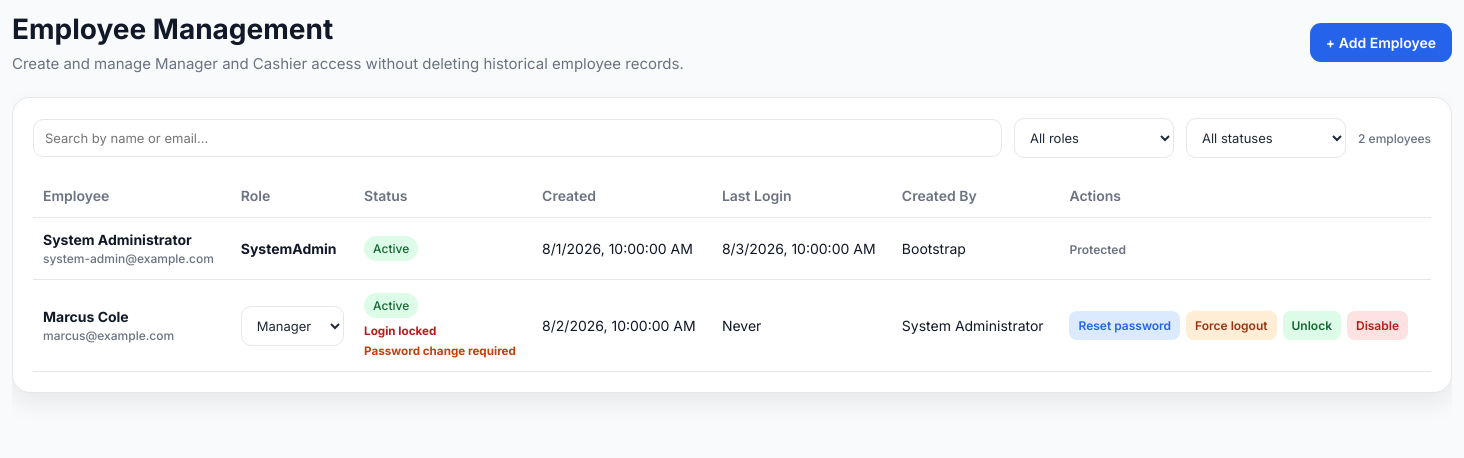
Test: EmployeeManagement › shows and clears a locked employee account
This screenshot has width=1464, height=458.
Expected: the text "Login locked" is shown, [364,324,436,338]
Click the button "Unlock".
click(1312, 326)  # box [1282,311,1341,340]
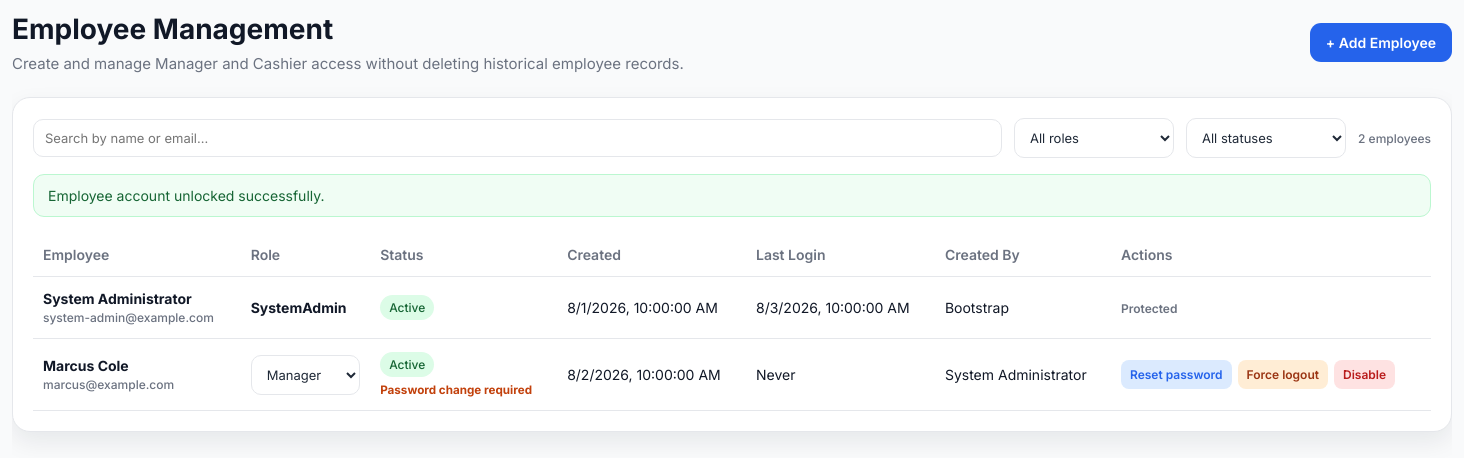
Now the text "Employee account unlocked successfully." is shown, box [33,174,1431,217]
Now the text "Login locked" is gone
